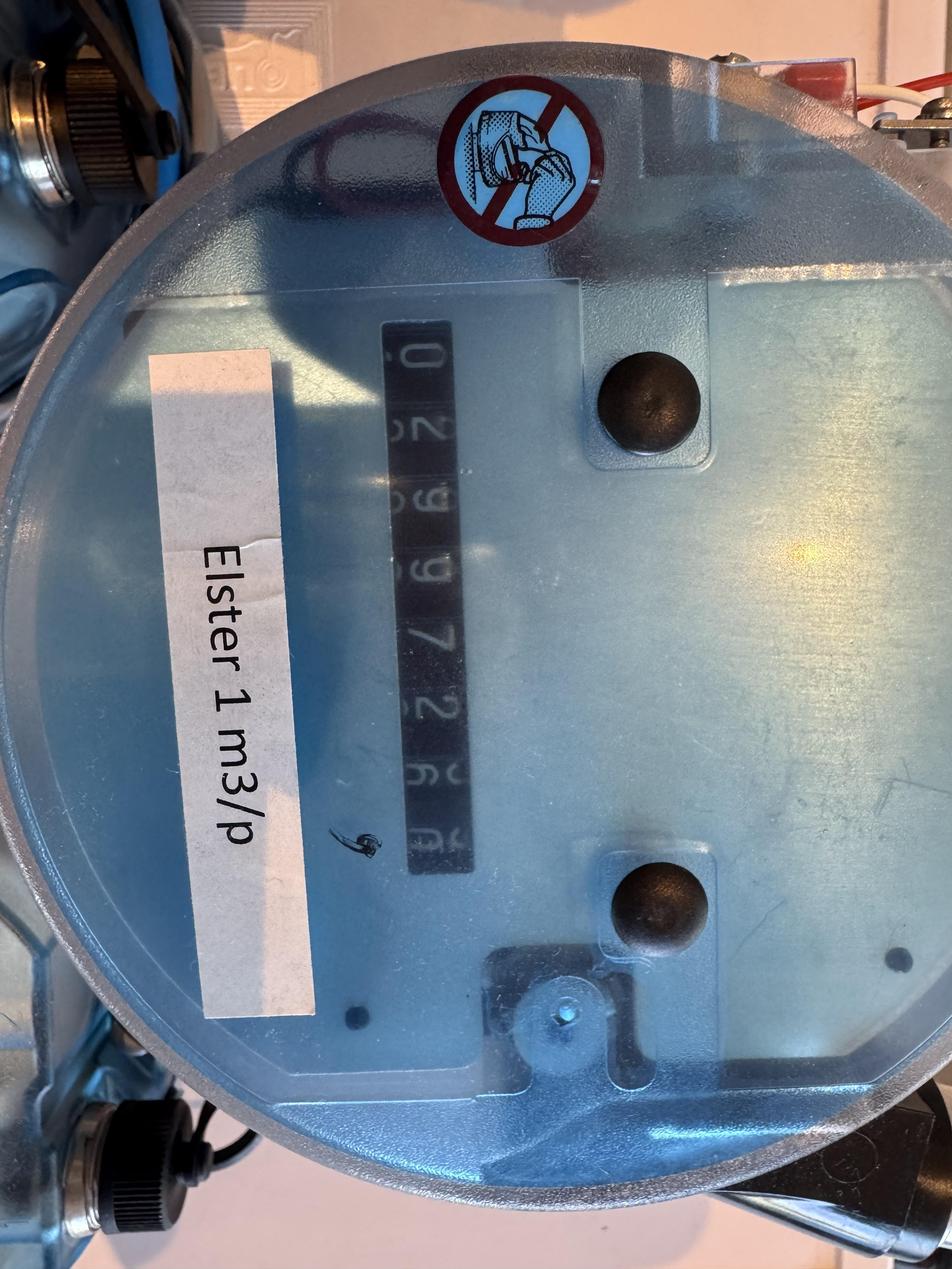analog_dial: (323, 312, 484, 885)
